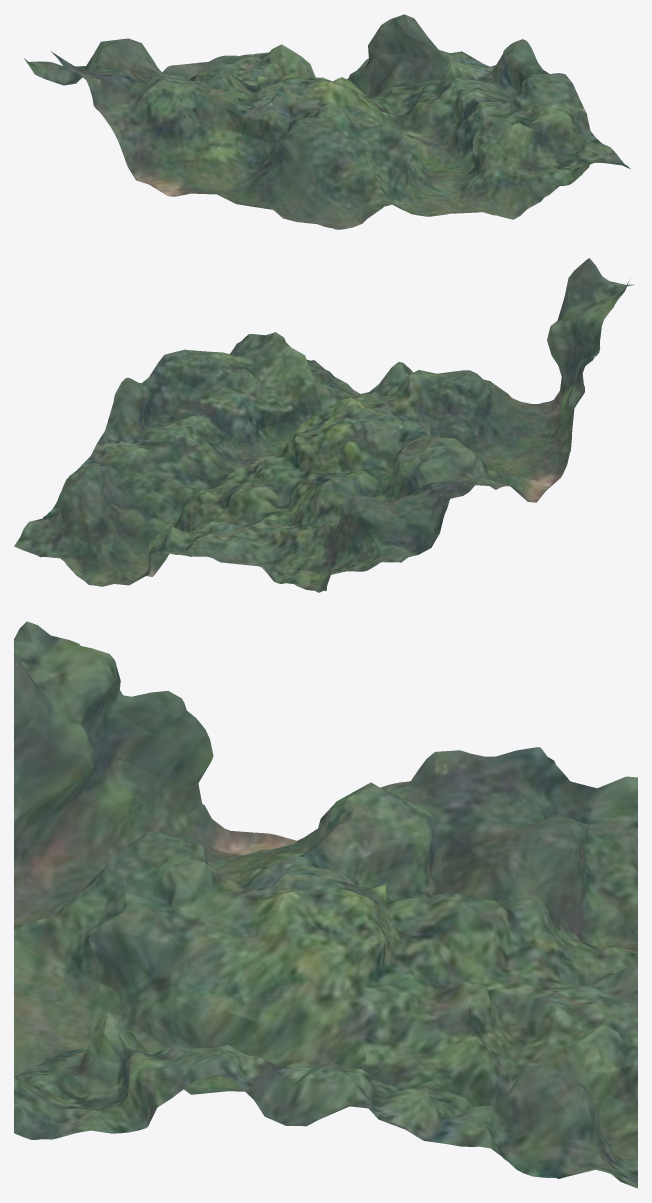
The model's file is Tile__005__002_L21_0003120.glb.
The picture shows the model from 3 angles, top to bottom: view 1: azimuth 30°, elevation 25°; view 2: azimuth 150°, elevation 25°; view 3: azimuth 270°, elevation 25°; orthographic projection. The views are drawn at different scales.
Parts seen in each view (by area): view 1: root; view 2: root; view 3: root.
Boxes of the visible parts, bbox=[...] form: root: bbox=[24, 14, 630, 229]; root: bbox=[14, 258, 634, 592]; root: bbox=[14, 621, 637, 1188].
Size of the model in its own units: 13.13 by 7.44 by 12.63.
Materials: 1 (1 with a texture image).
